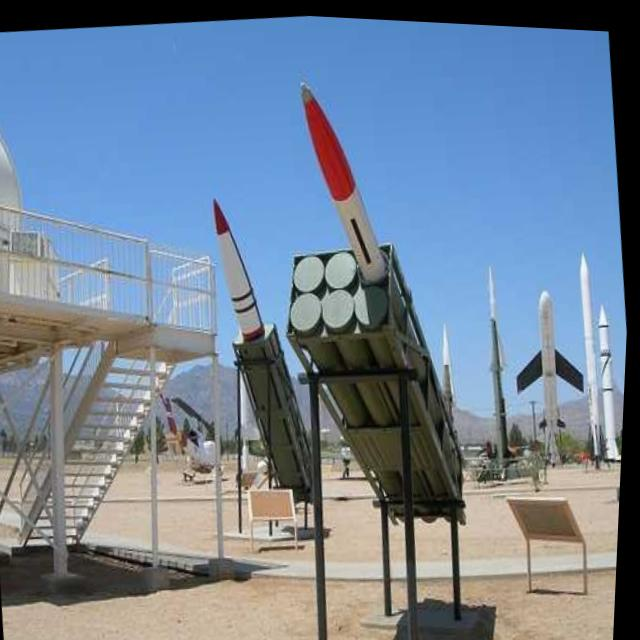missile: (288, 59, 468, 447), (201, 188, 328, 488), (569, 242, 618, 455), (476, 265, 526, 470), (592, 297, 631, 445)
